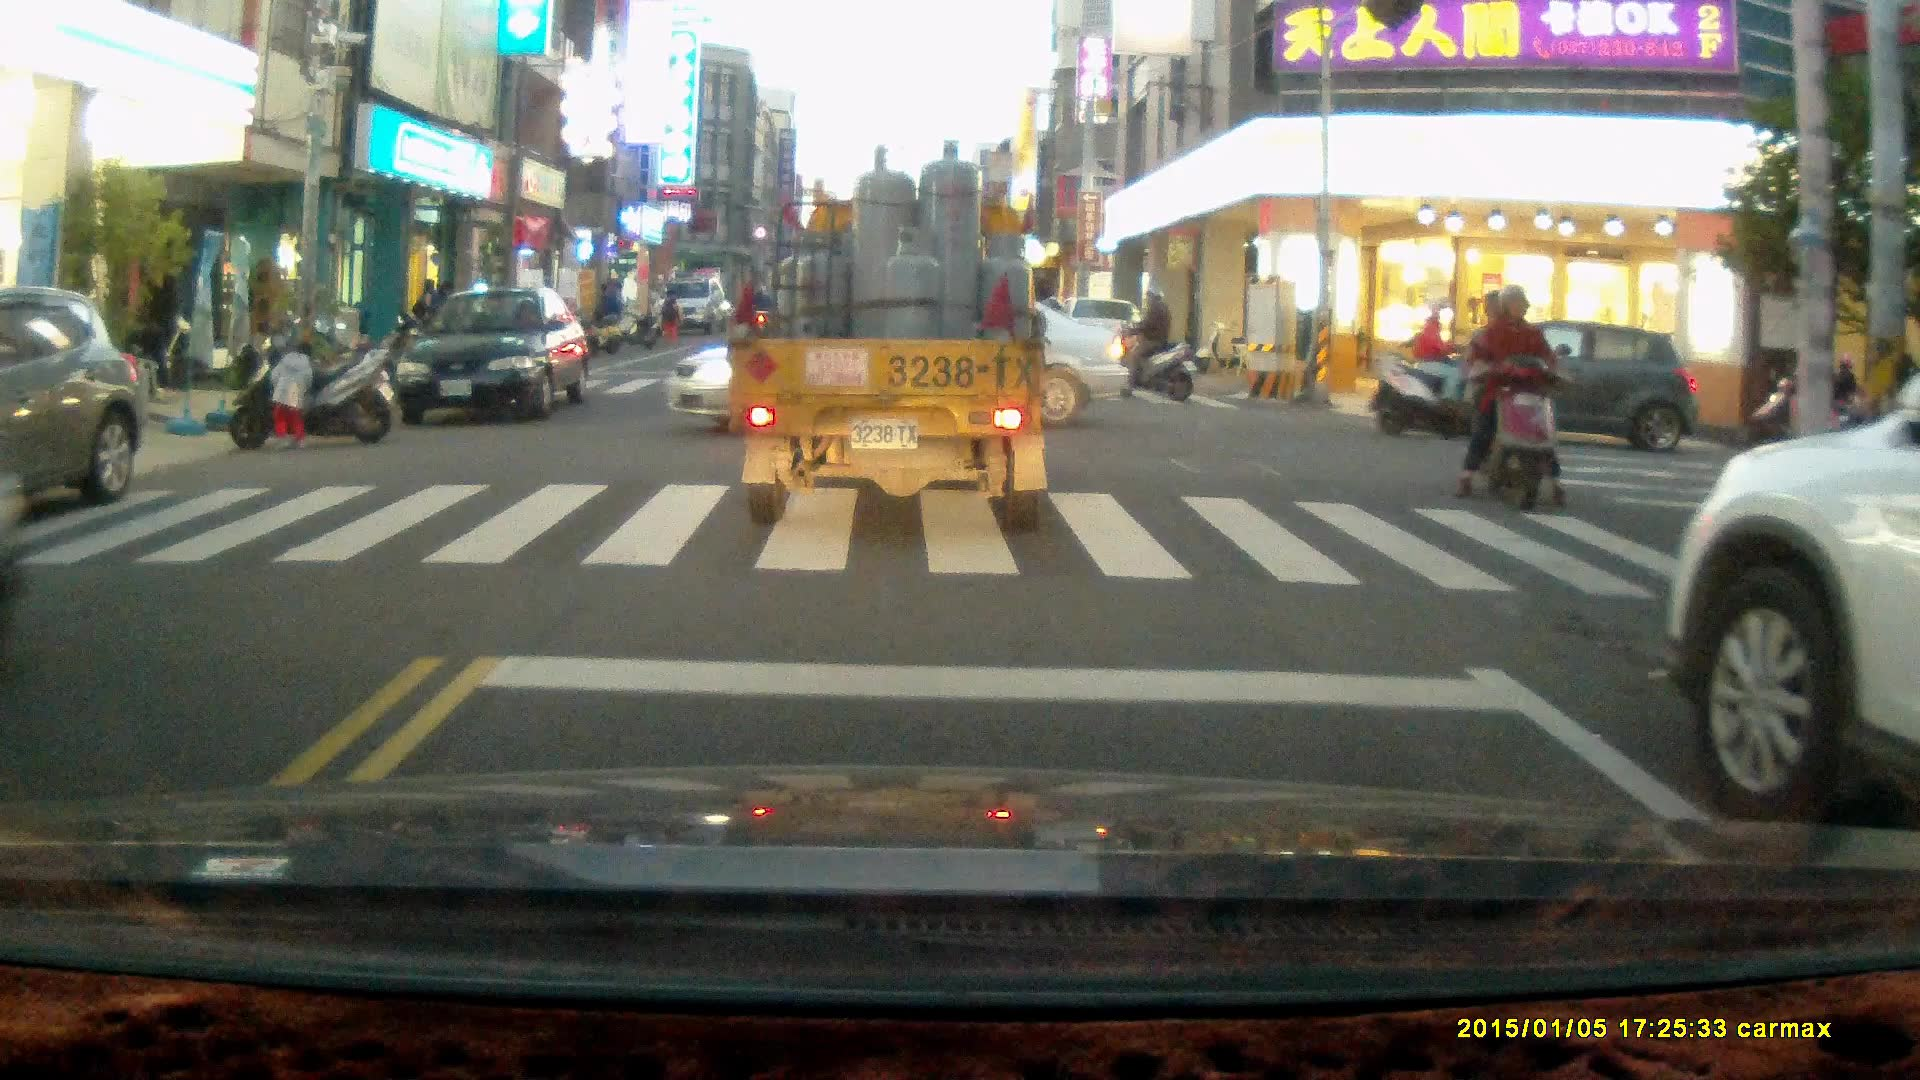pedestrian: (268, 339, 317, 453), (600, 278, 627, 341), (660, 286, 683, 344)
rider: (1454, 285, 1570, 515), (1370, 298, 1511, 442), (1742, 340, 1857, 461), (1100, 283, 1195, 403)
vehicle: (725, 137, 1051, 528), (1657, 384, 1920, 826), (1396, 324, 1696, 455), (390, 290, 593, 425), (654, 279, 729, 335)
